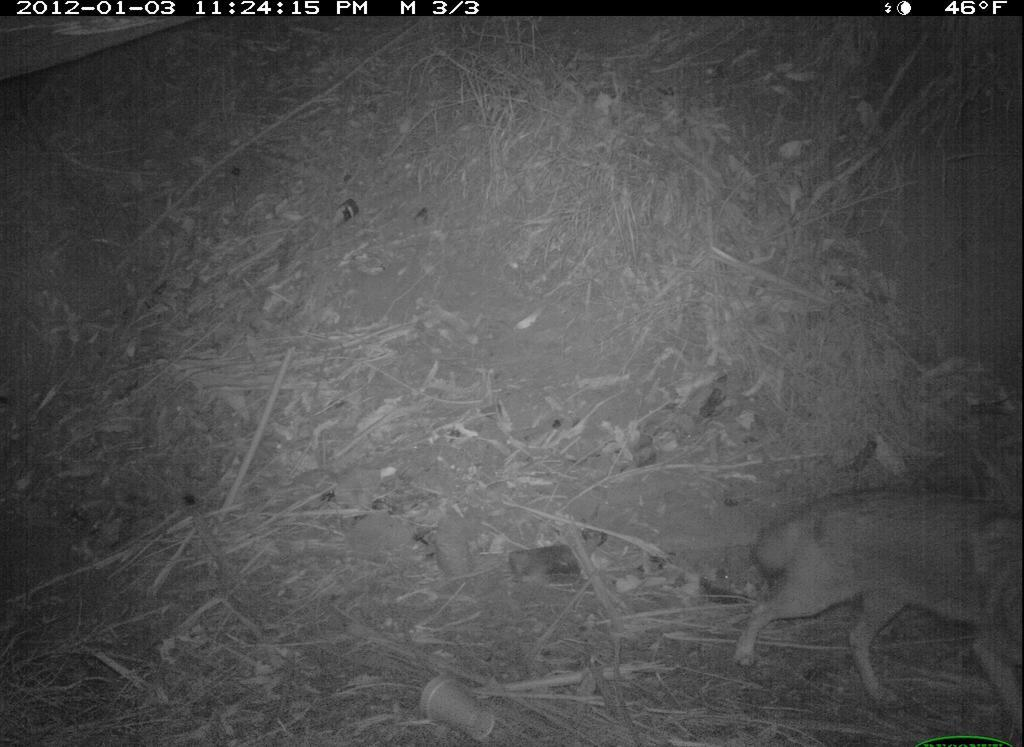coyote: (734, 415, 1022, 708)
